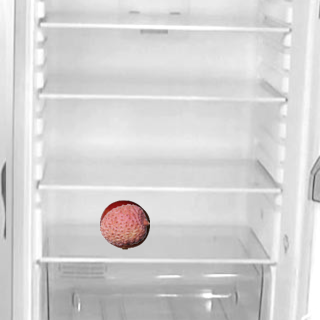Apple Braeburn: (99, 199, 149, 249)
Lychee: (99, 199, 149, 249)
